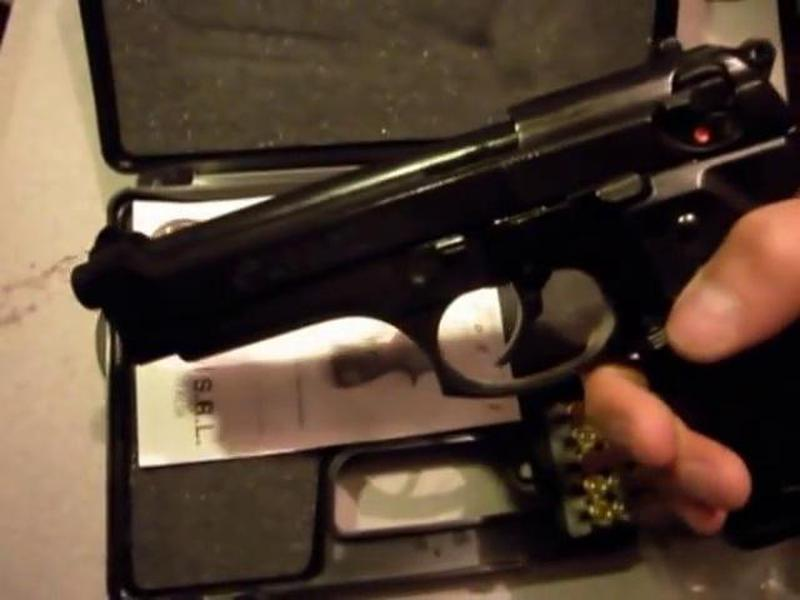Pistola: (104, 36, 800, 538)
